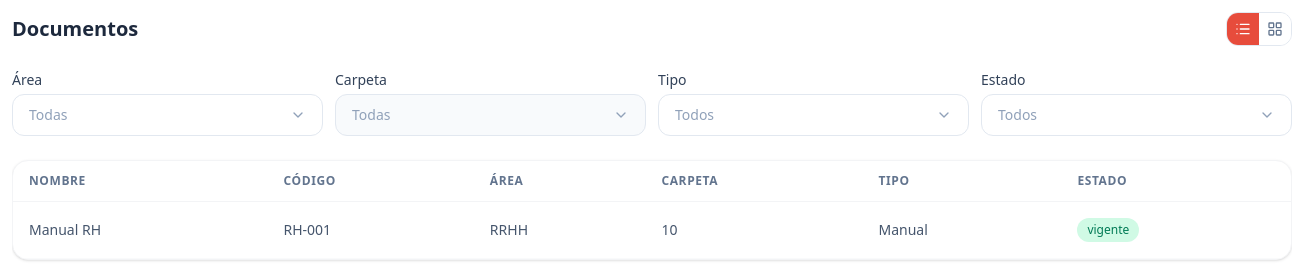
it: DocumentosListado › resolves área, carpeta, and tipo names in the table instead of raw ids
Expected: the text "Manual RH" is shown, [29,220,101,239]
Click the button named "Área" at [48, 114], box [12,94,323,136]
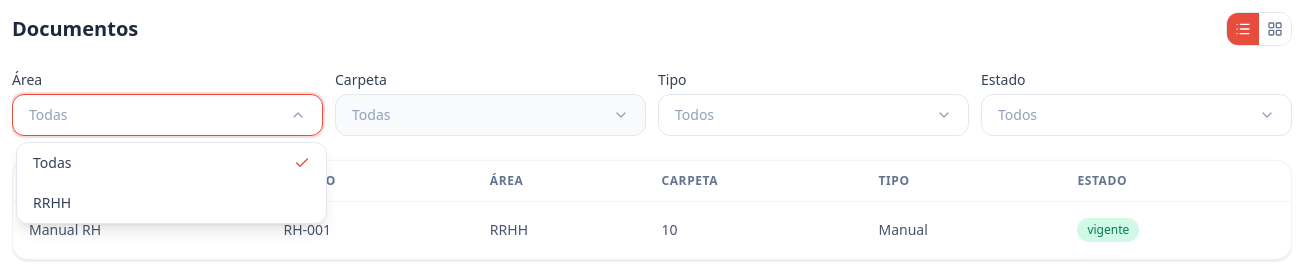
Click the button "RRHH" at [52, 202], box [17,183,326,223]
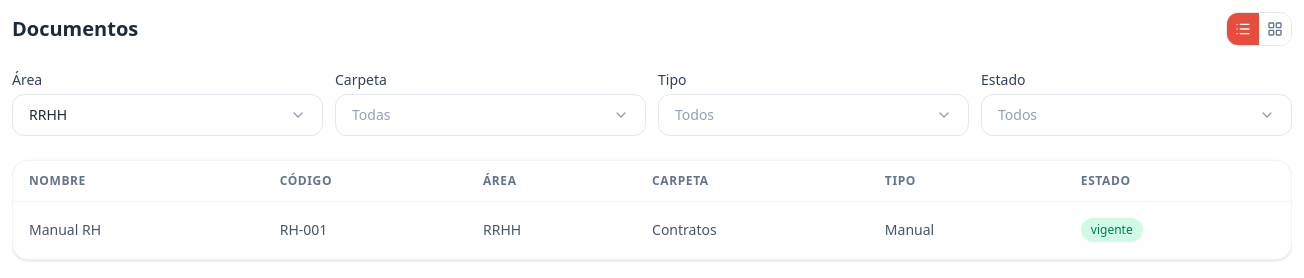
Expected: the text "RRHH" is shown, [467,202,636,258]
Expected: the text "Contratos" is shown, [636,202,869,258]
